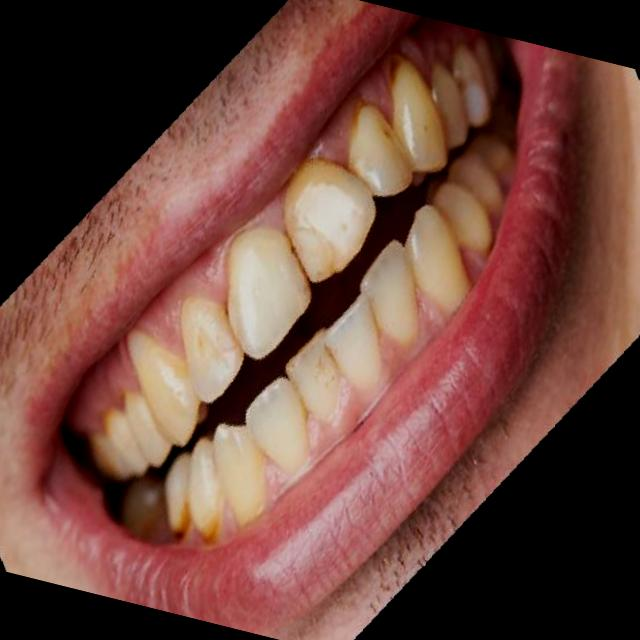calculus: (264, 192, 378, 298)
